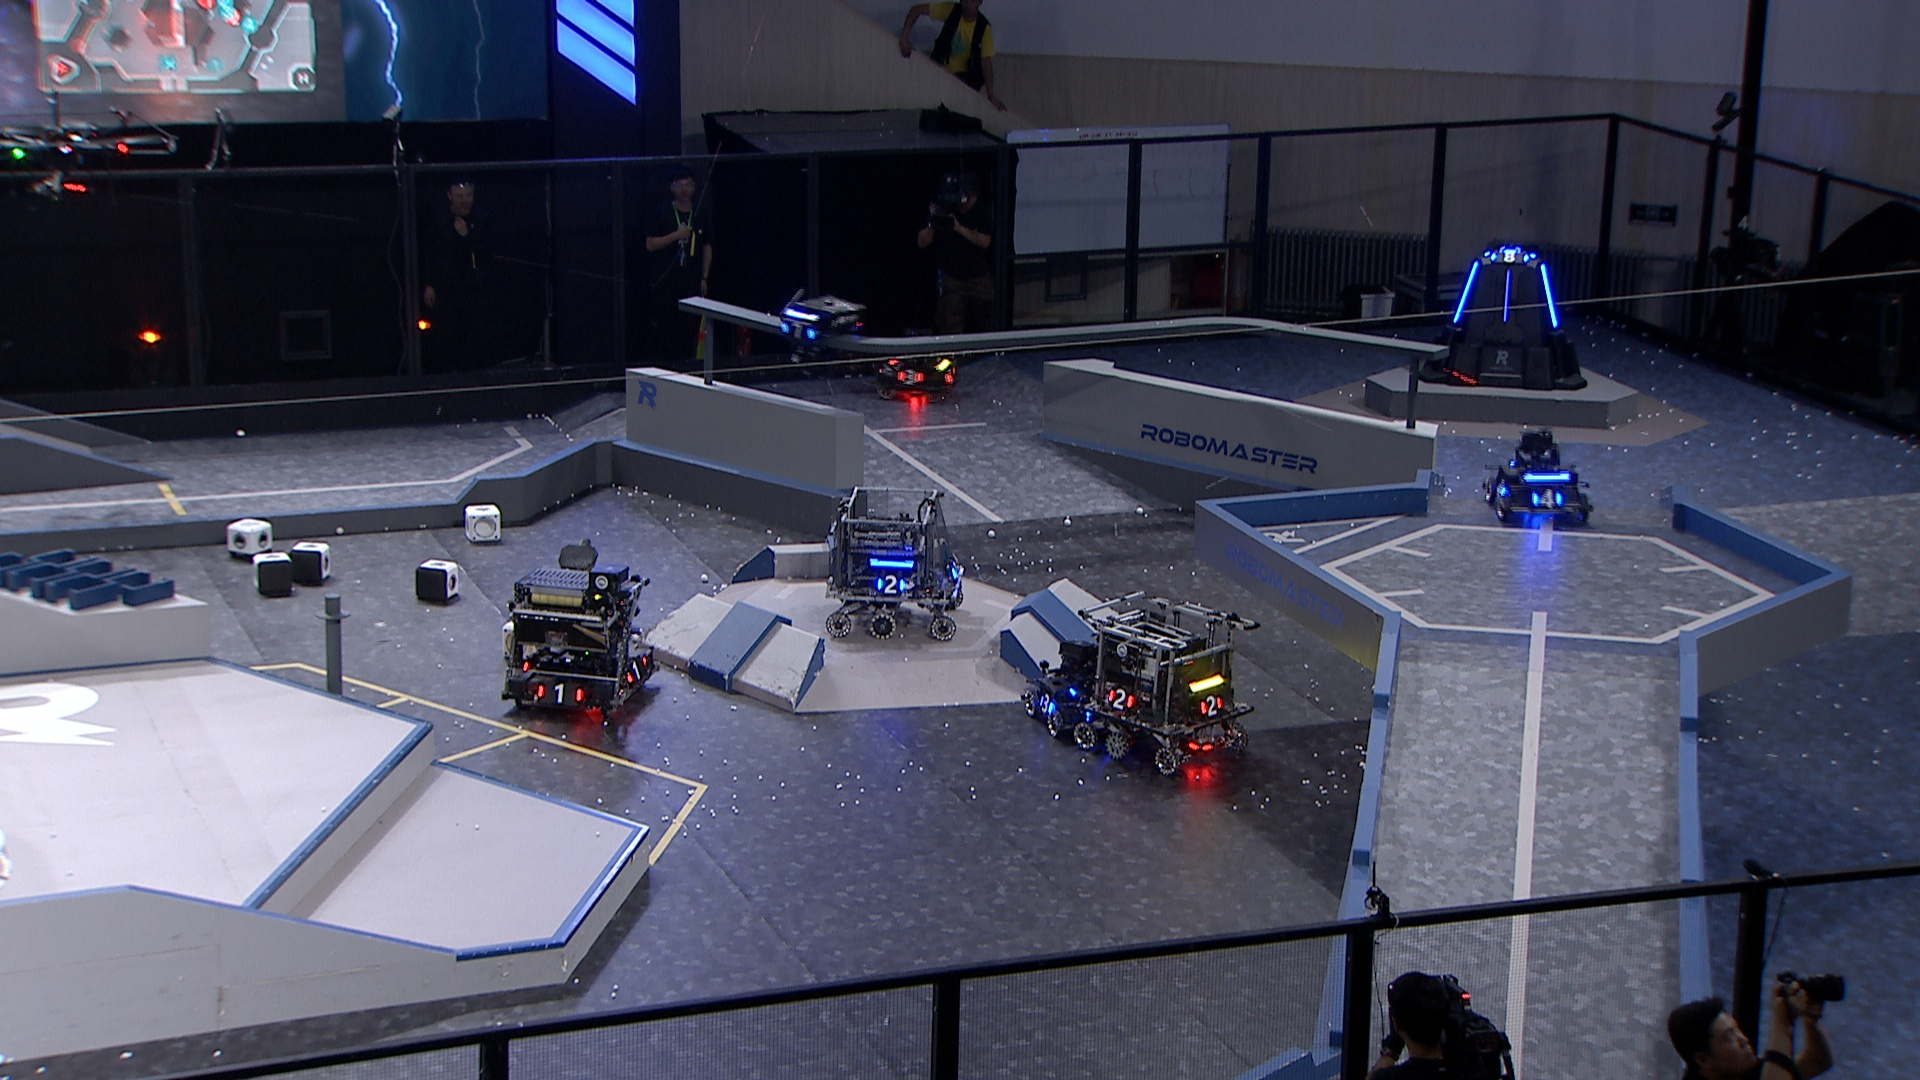armor: (1449, 258, 1485, 328), (1539, 262, 1563, 328), (534, 679, 585, 705), (775, 318, 818, 342), (1499, 262, 1514, 327), (622, 655, 651, 684), (1106, 684, 1135, 713), (1528, 487, 1563, 510), (1487, 247, 1528, 266), (876, 574, 907, 597), (1197, 692, 1222, 717), (895, 367, 924, 385), (1036, 690, 1055, 717), (945, 559, 964, 580), (1491, 476, 1506, 498), (942, 365, 956, 386)
base: (1420, 243, 1593, 394)
car: (1088, 585, 1266, 779), (495, 556, 662, 727), (823, 485, 967, 644), (1480, 422, 1596, 527), (1021, 636, 1125, 740), (868, 332, 963, 404)
watcher: (771, 287, 865, 378)
